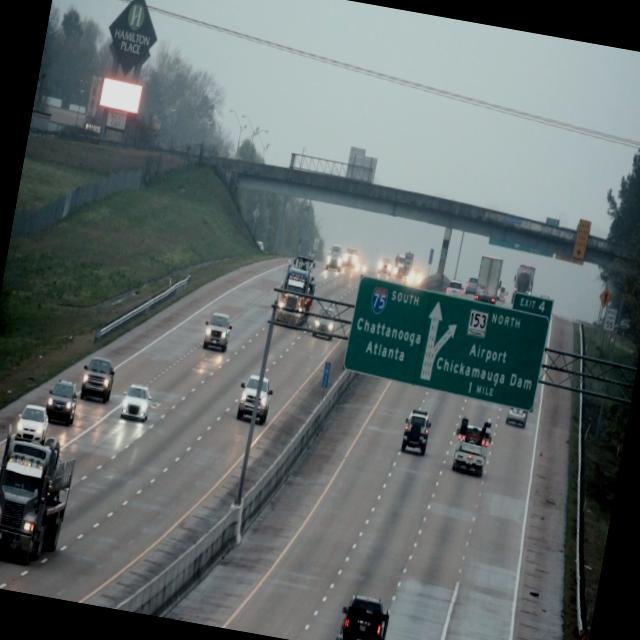Vehicle: (0, 430, 78, 563), (274, 255, 320, 329), (448, 414, 496, 482), (335, 587, 396, 640), (43, 374, 82, 428), (234, 376, 274, 428), (78, 354, 118, 404), (14, 402, 52, 448), (400, 406, 433, 458), (120, 379, 154, 425), (201, 310, 233, 352), (310, 304, 338, 342)
